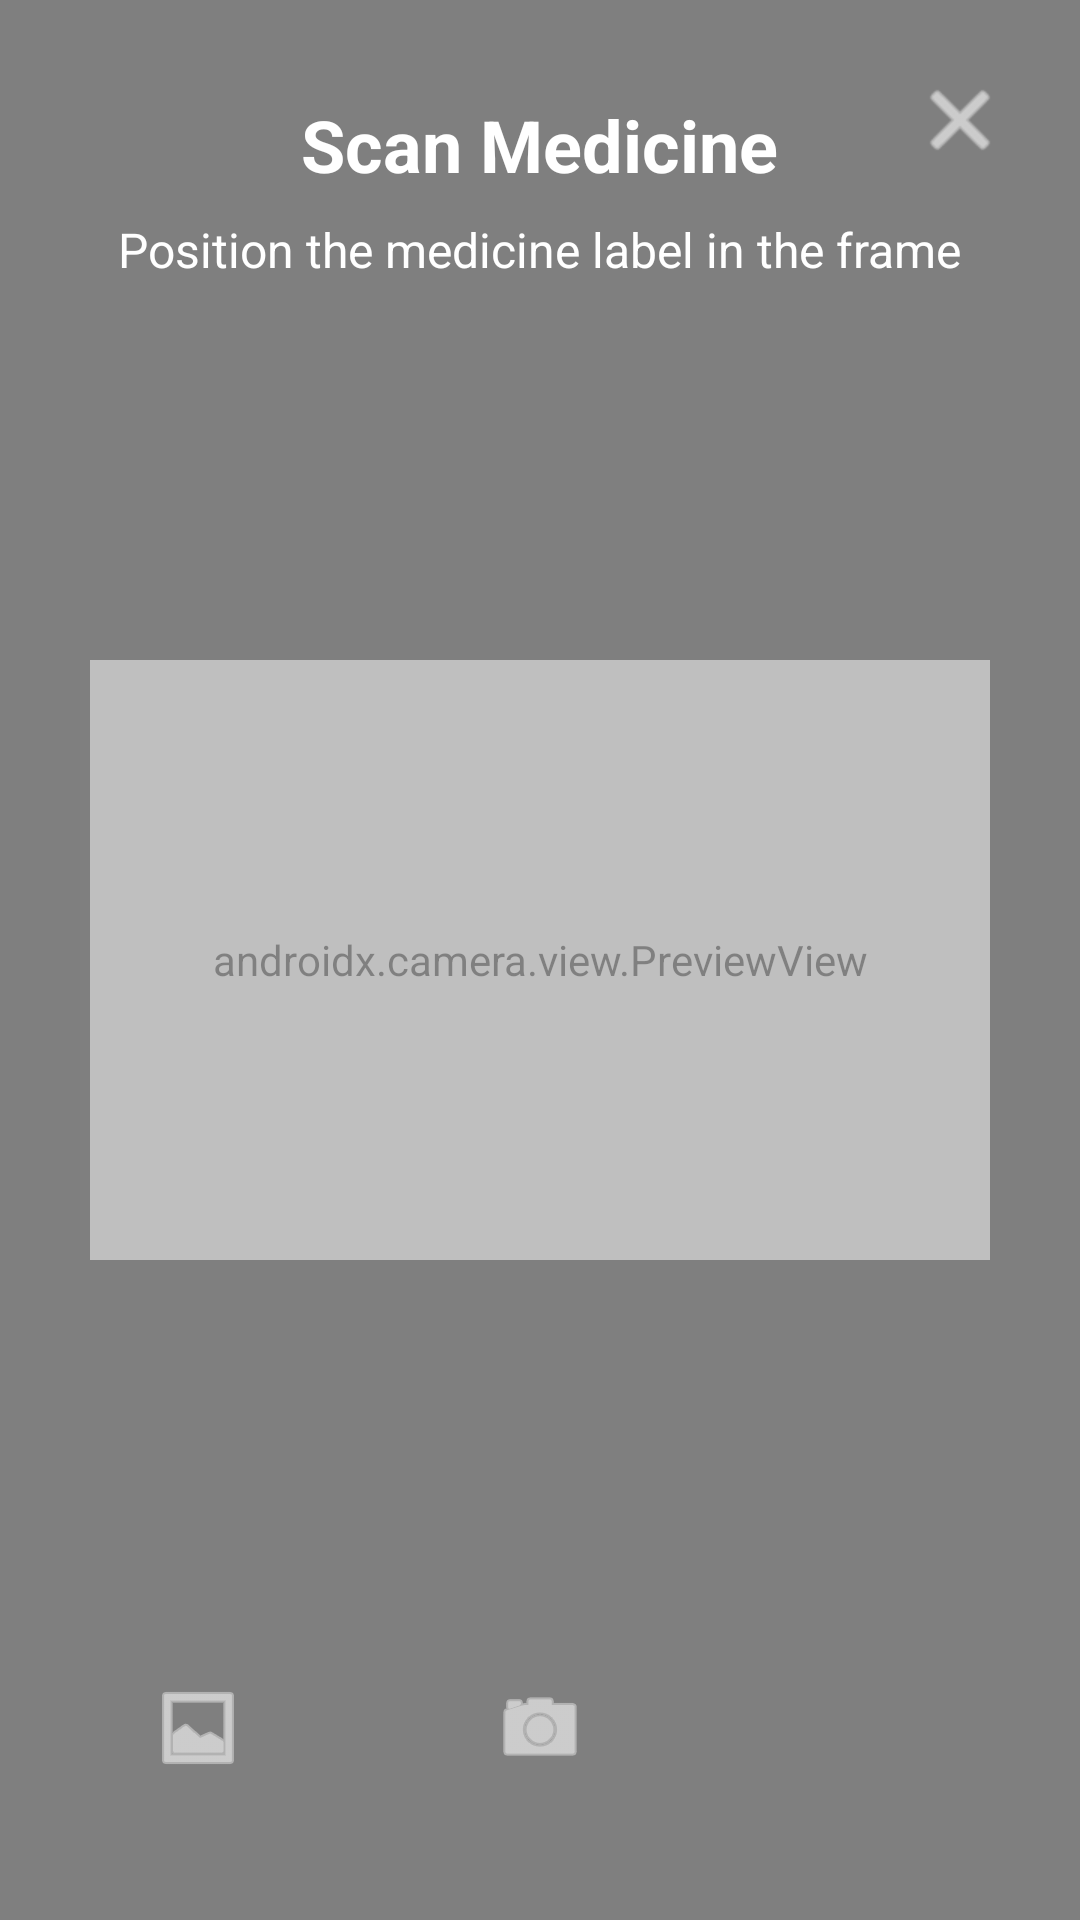

Point at icon controls on the screen. Image size 1080*1920, points as (x,y).
Capture: (540,1726)
Close: (960,120)
Upload Image: (198,1728)
